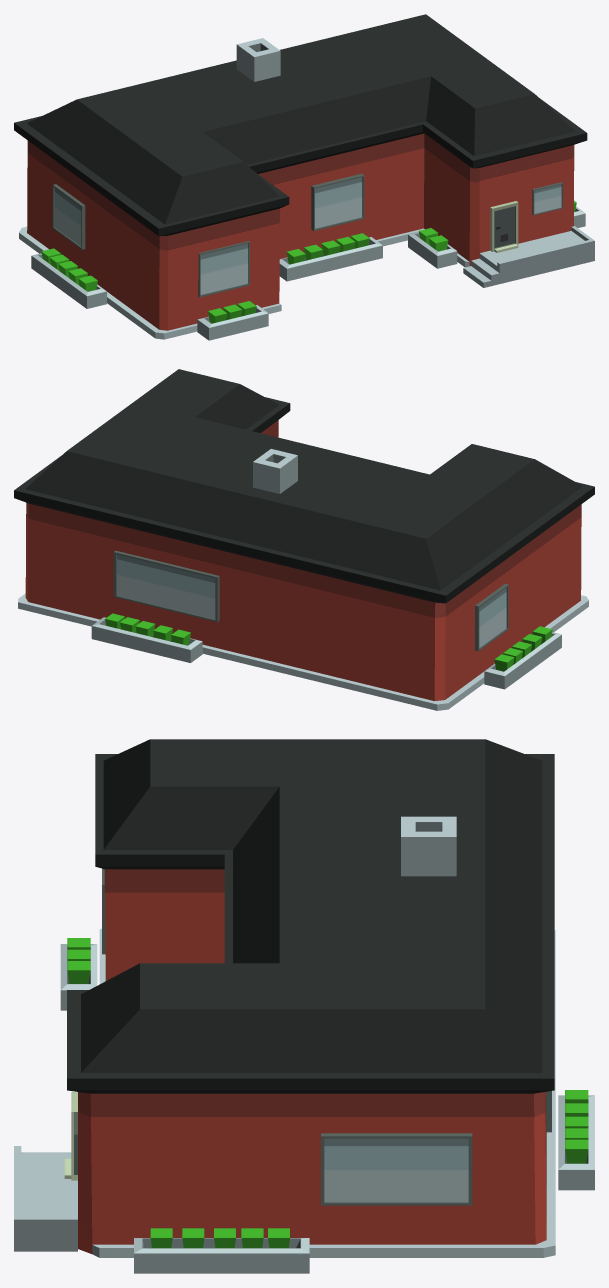
The model's file is Flatty Roof U.fbx.
3 views of the same model, one above another, from view 1: azimuth 30°, elevation 25°; view 2: azimuth 150°, elevation 25°; view 3: azimuth 270°, elevation 25° (orthographic). The views are drawn at different scales.
Visible parts, largest first — view 1: Flatty Roof U; view 2: Flatty Roof U; view 3: Flatty Roof U.
Boxes of the visible parts, x1=… form: Flatty Roof U: x1=14, y1=14, x2=594, y2=340; Flatty Roof U: x1=14, y1=369, x2=594, y2=710; Flatty Roof U: x1=14, y1=739, x2=594, y2=1273.
Size of the model in its own units: 8.62 by 3.01 by 5.96.
